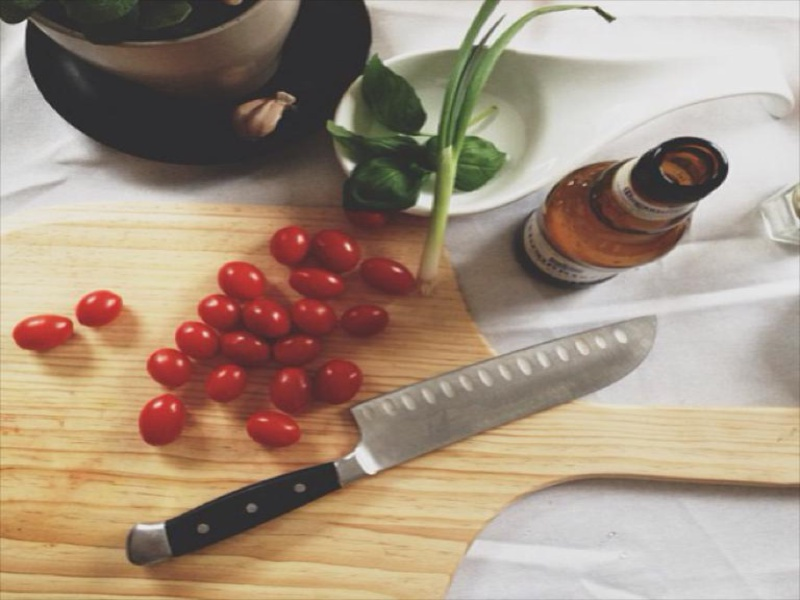knife: (123, 309, 662, 566)
